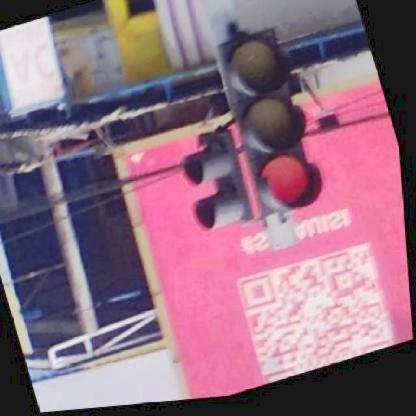Traffic Light -Red-: (215, 30, 332, 228)
